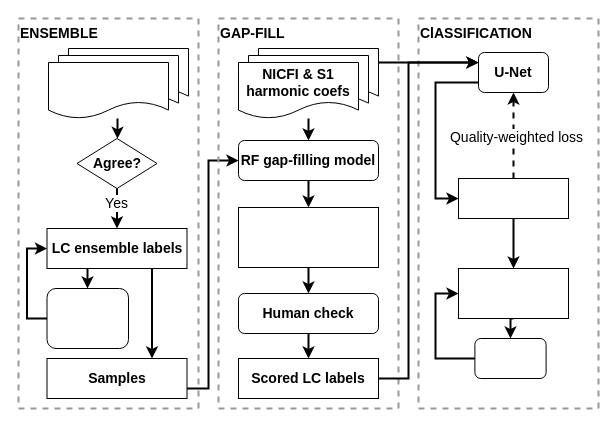
Some shapes in this 616 by 435 pixel diagram are drawn without their labels. The shapes that lost their labels are listed below. From the top down, each one's centre as x and y in pixels, then its label:
the point at 108,90: LC products
the point at 513,198: Noisy labels
the point at 308,237: Gap-filled image-wise LC labels
the point at 513,293: Land cover classification
the point at 87,318: OSM features filter
the point at 510,358: Add Wetland
